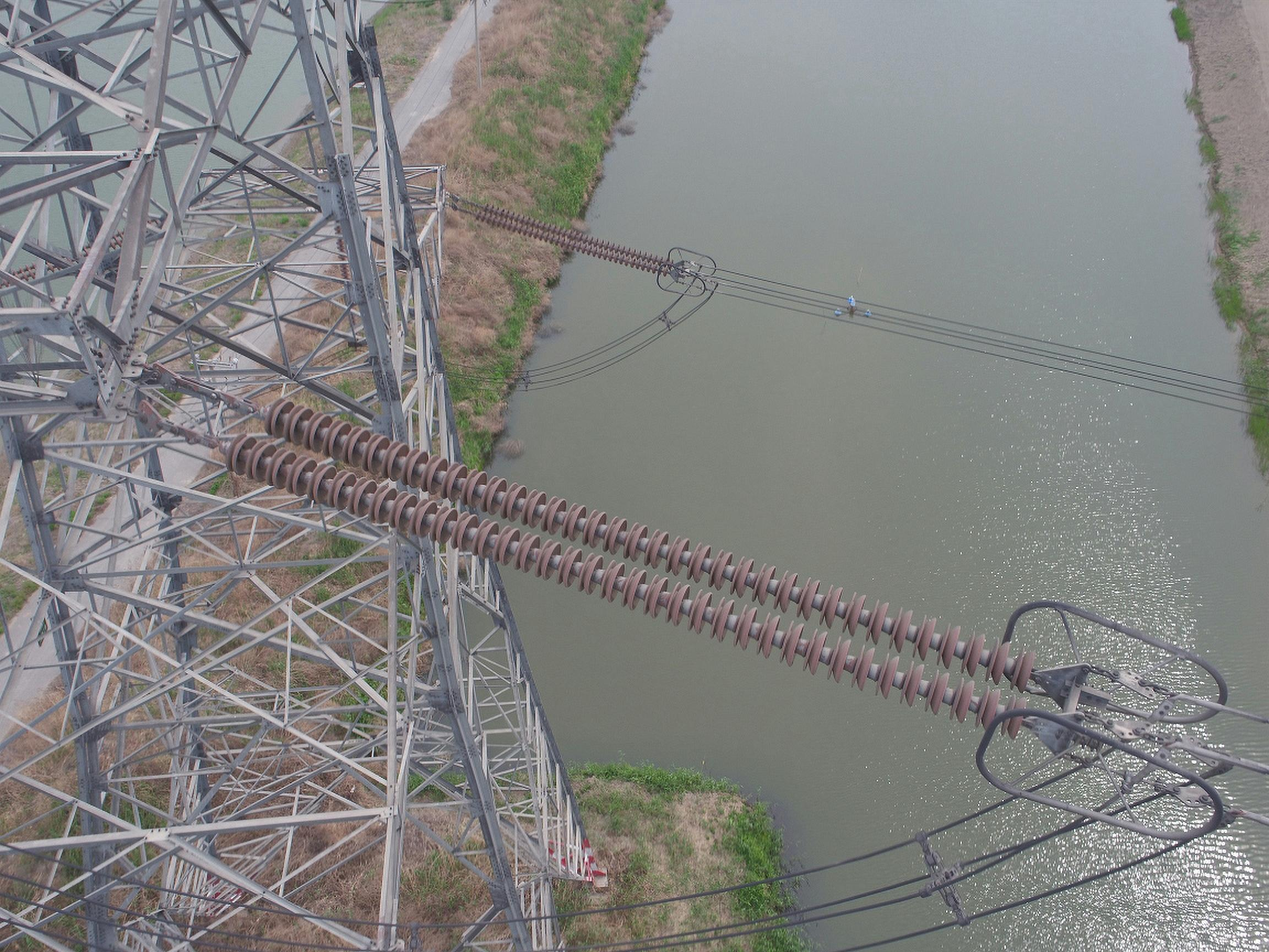insulator: (219, 393, 1039, 743), (472, 201, 676, 278), (1, 225, 127, 289)
